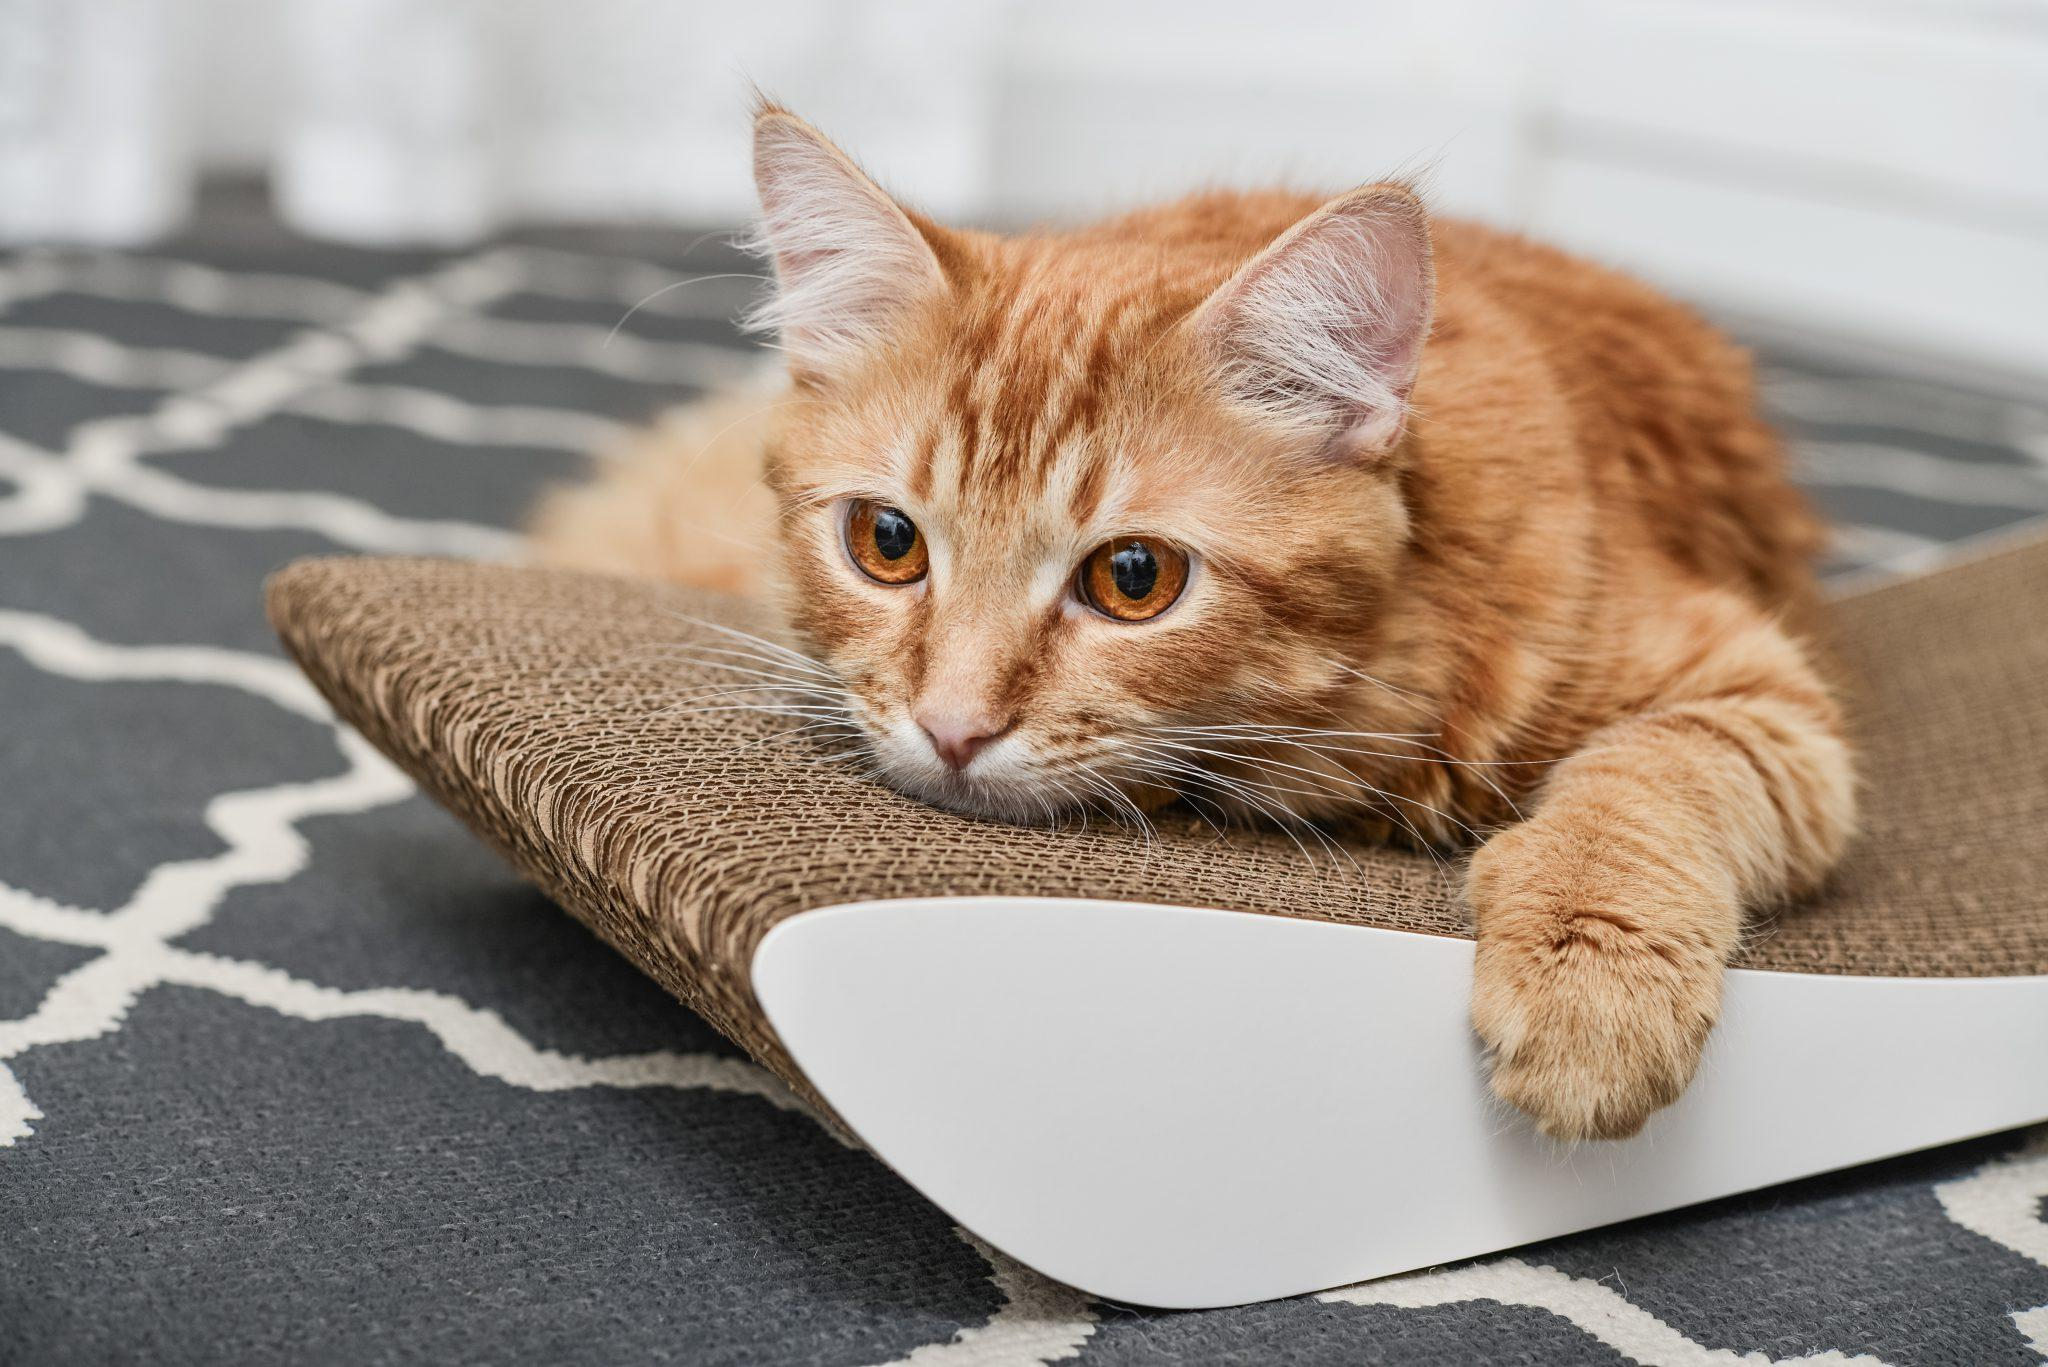cat: (503, 67, 1870, 1164)
